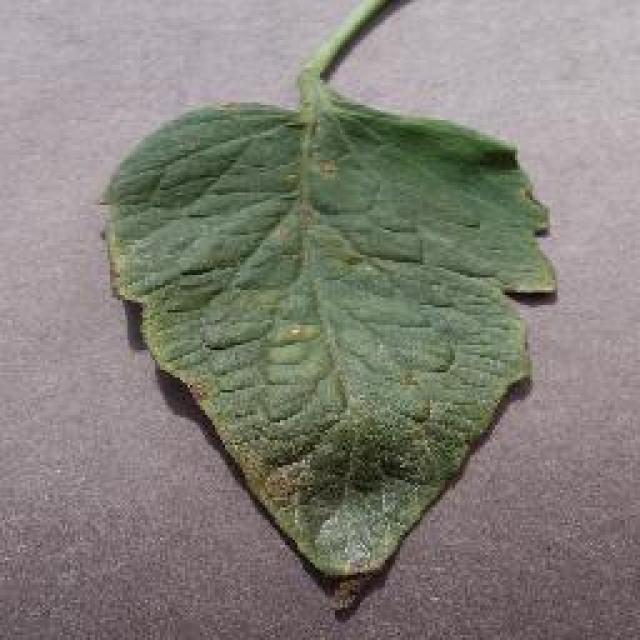Tomato___Target_Spot: (102, 0, 555, 608)
